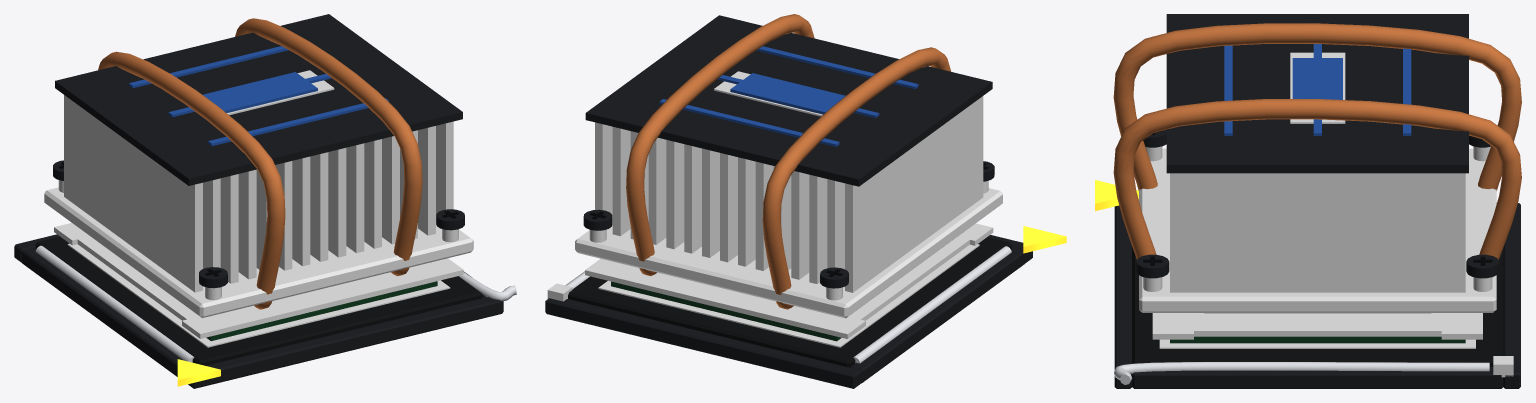
Rendered from hwm_cpu_xeon_6c.glb.
3 renders of one model, left to right at view 1: azimuth 30°, elevation 25°; view 2: azimuth 150°, elevation 25°; view 3: azimuth 270°, elevation 25°, orthographic. The views are drawn at different scales.
Parts seen in each view (by area): view 1: Cooler, Socket, Frame, CPU, Screw_1, Screw_3, Lever; view 2: Cooler, Socket, Frame, CPU, Screw_2, Screw_0; view 3: Cooler, Socket, Frame, Lever, CPU, Screw_2, Screw_3, Screw_1, Screw_0.
Boxes of the visible parts, bbox=[...] form: Cooler: bbox=[44, 14, 473, 317]; Socket: bbox=[14, 234, 503, 388]; Frame: bbox=[54, 223, 463, 338]; CPU: bbox=[206, 281, 437, 340]; Screw_1: bbox=[199, 267, 227, 300]; Screw_3: bbox=[436, 209, 464, 242]; Lever: bbox=[459, 272, 516, 301]; Cooler: bbox=[575, 14, 1002, 318]; Socket: bbox=[545, 226, 1066, 388]; Frame: bbox=[585, 223, 993, 338]; CPU: bbox=[611, 281, 841, 341]; Screw_2: bbox=[583, 209, 612, 242]; Screw_0: bbox=[820, 267, 848, 300]; Cooler: bbox=[1113, 14, 1521, 312]; Socket: bbox=[1095, 180, 1520, 388]; Frame: bbox=[1152, 313, 1482, 339]; Lever: bbox=[1114, 362, 1489, 384]; CPU: bbox=[1170, 313, 1465, 343]; Screw_2: bbox=[1466, 254, 1499, 291]; Screw_3: bbox=[1136, 254, 1169, 291]; Screw_1: bbox=[1143, 129, 1166, 161]; Screw_0: bbox=[1469, 135, 1490, 161].
Bounding box in the file's own units: 0.1338 × 0.0775 × 0.1241.
